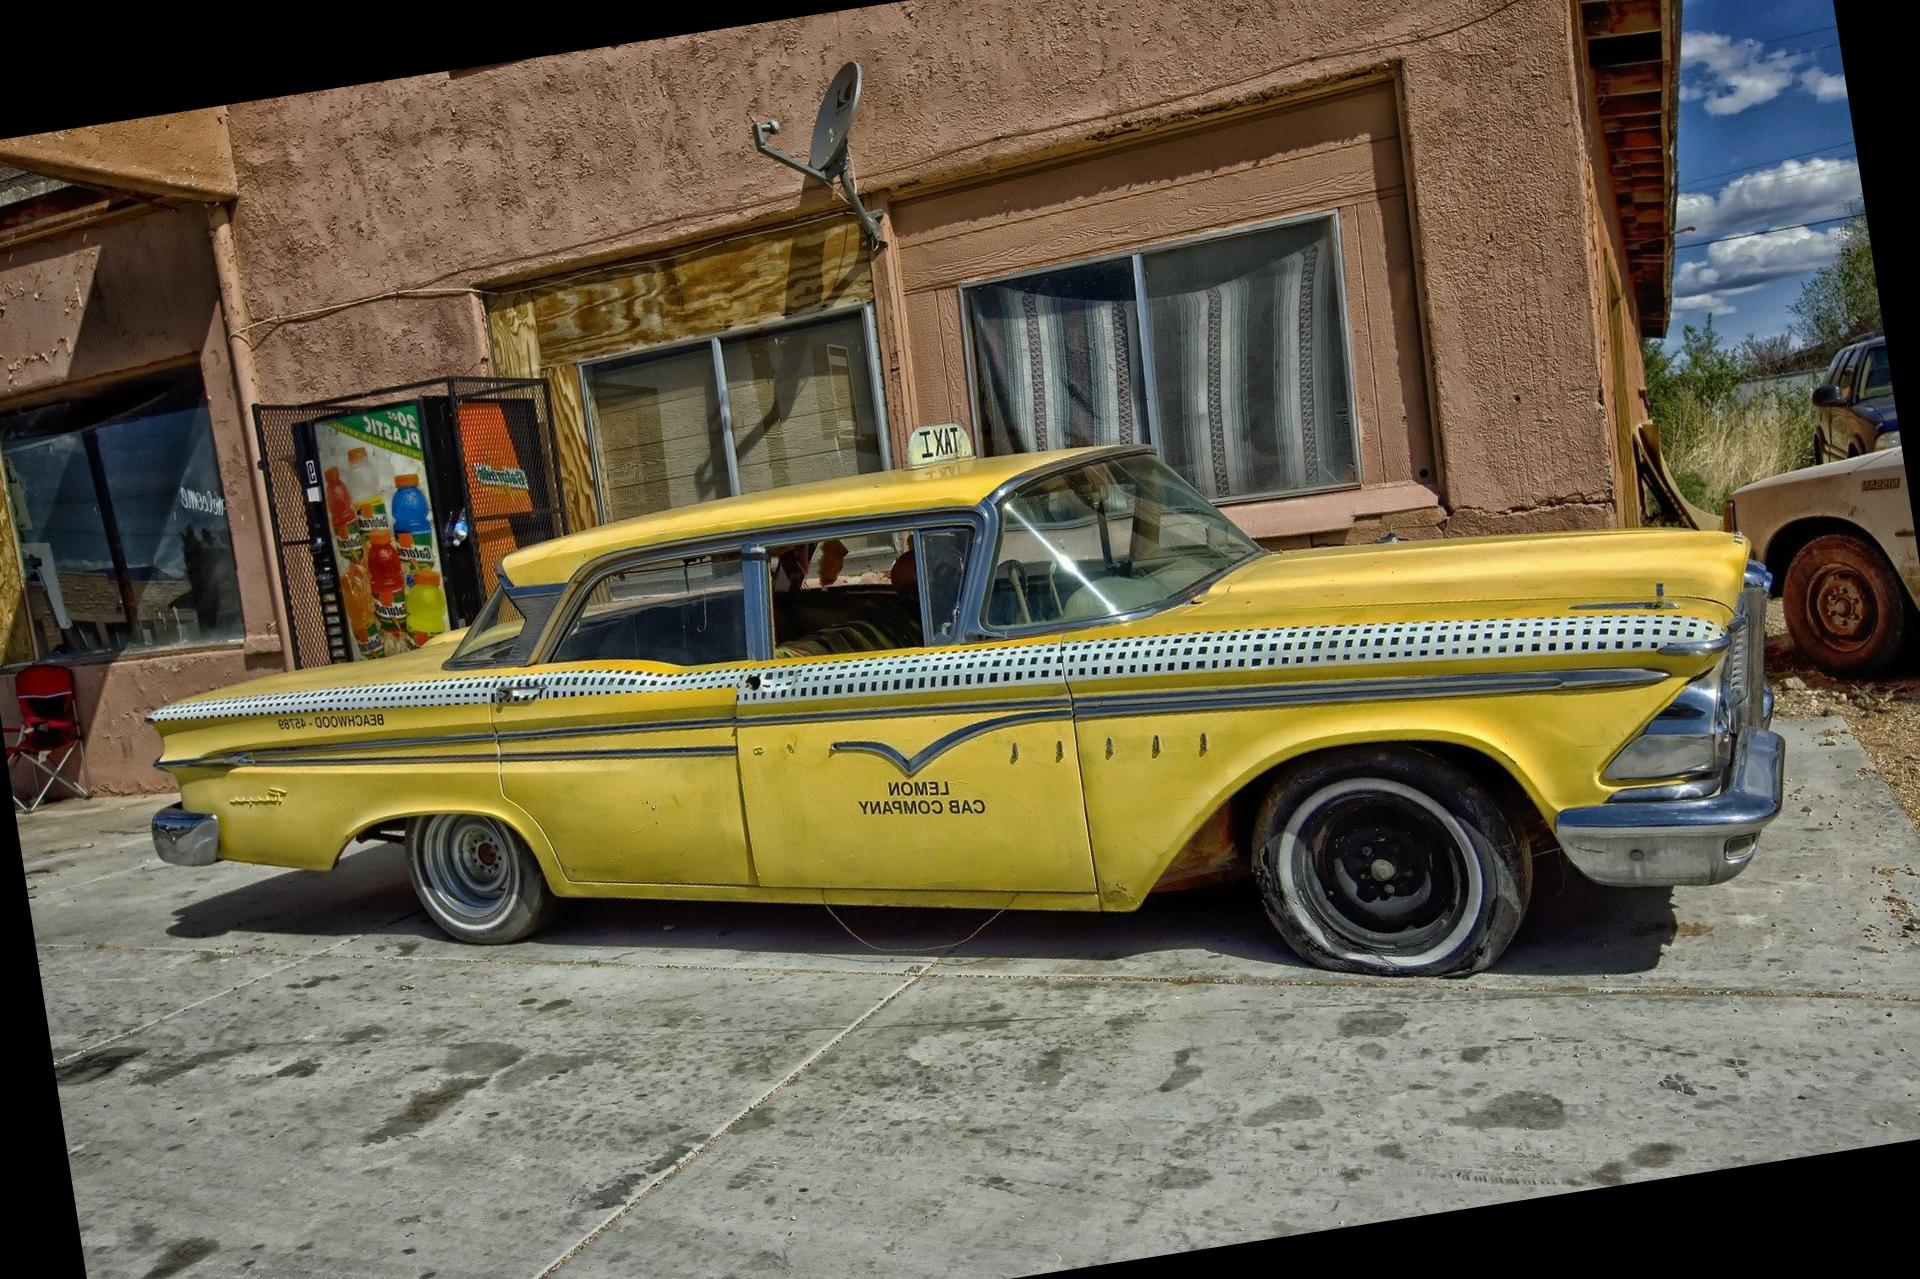taxi: (131, 438, 1789, 966)
